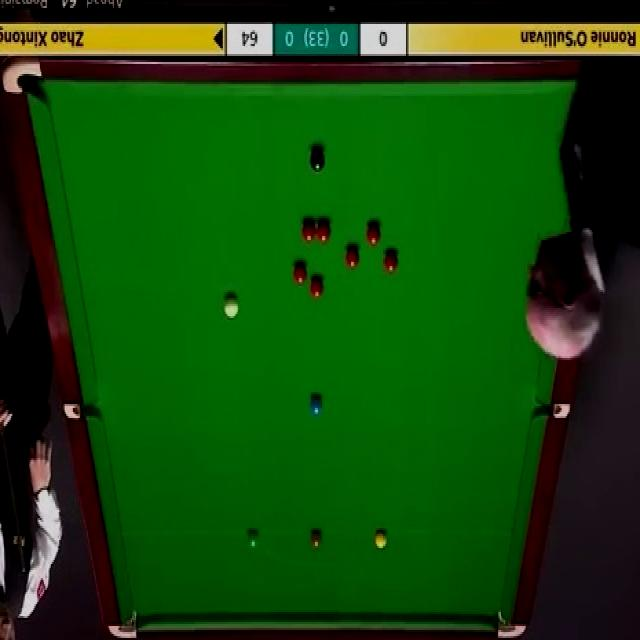black-ball: (309, 150, 326, 172)
blue-ball: (310, 393, 324, 415)
brown-ball: (310, 530, 324, 550)
green-ball: (245, 530, 259, 550)
red-ball: (301, 218, 317, 244), (344, 247, 362, 270), (366, 223, 382, 248), (317, 220, 332, 246), (293, 263, 309, 287), (309, 276, 324, 299), (384, 250, 398, 274)
white-ball: (223, 294, 239, 320)
yellow-ball: (374, 530, 388, 550)
